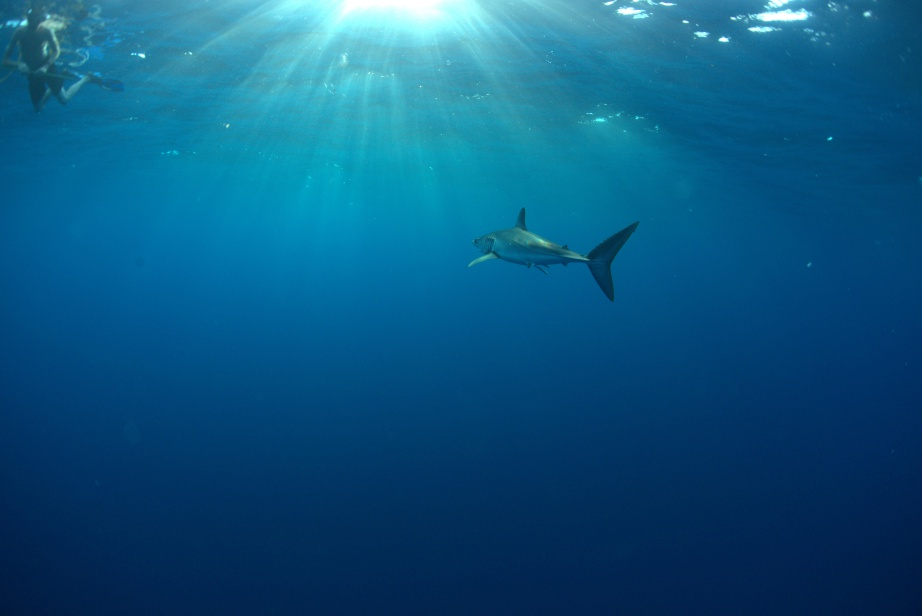Mako: (460, 206, 649, 314)
